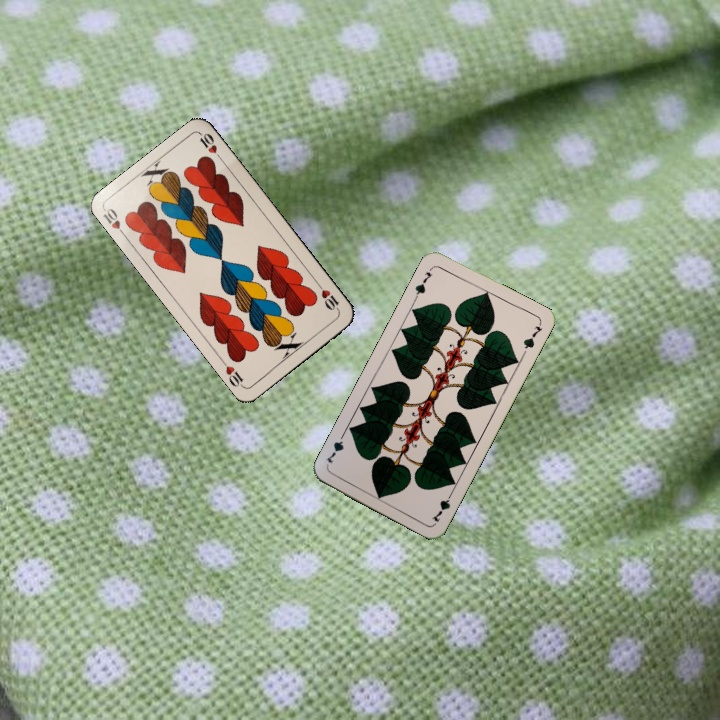G7: (427, 487, 456, 525), (411, 268, 436, 301)
H10: (99, 204, 129, 241), (313, 279, 342, 314)
